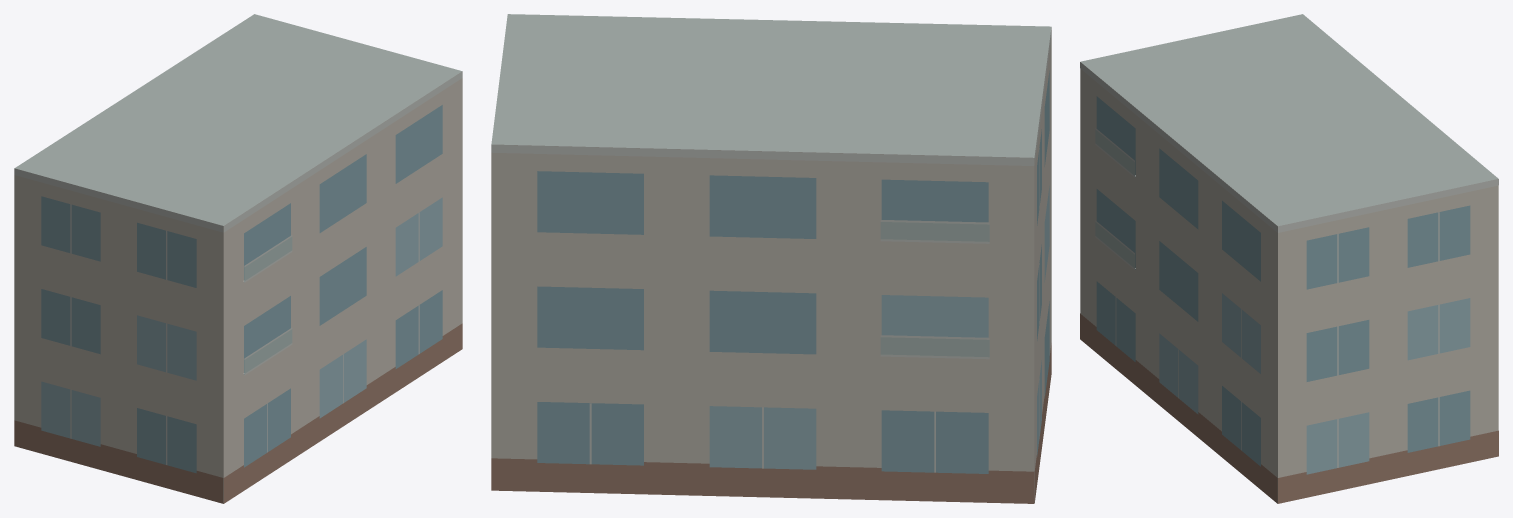
File: survey-upis-32839983.glb
3 renders of one model, left to right at view 1: azimuth 30°, elevation 25°; view 2: azimuth 150°, elevation 25°; view 3: azimuth 270°, elevation 25°, orthographic. The views are drawn at different scales.
Parts seen in each view (by area): view 1: survey-upis-32839983.tmp; view 2: survey-upis-32839983.tmp; view 3: survey-upis-32839983.tmp.
Part boxes in pixels (<box>): survey-upis-32839983.tmp: <box>14,14,462,503</box>; survey-upis-32839983.tmp: <box>491,14,1051,503</box>; survey-upis-32839983.tmp: <box>1080,14,1498,503</box>.
Bounding box in the file's own units: 16.66 × 10.15 × 13.88.
